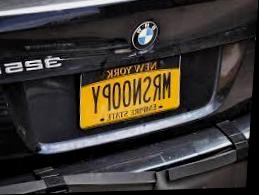License_Plate: (78, 60, 180, 125)
